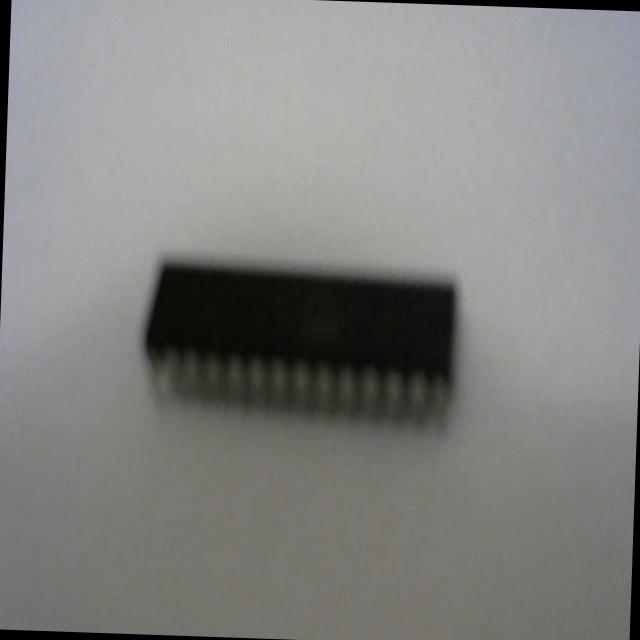atmega: (138, 251, 461, 434)
